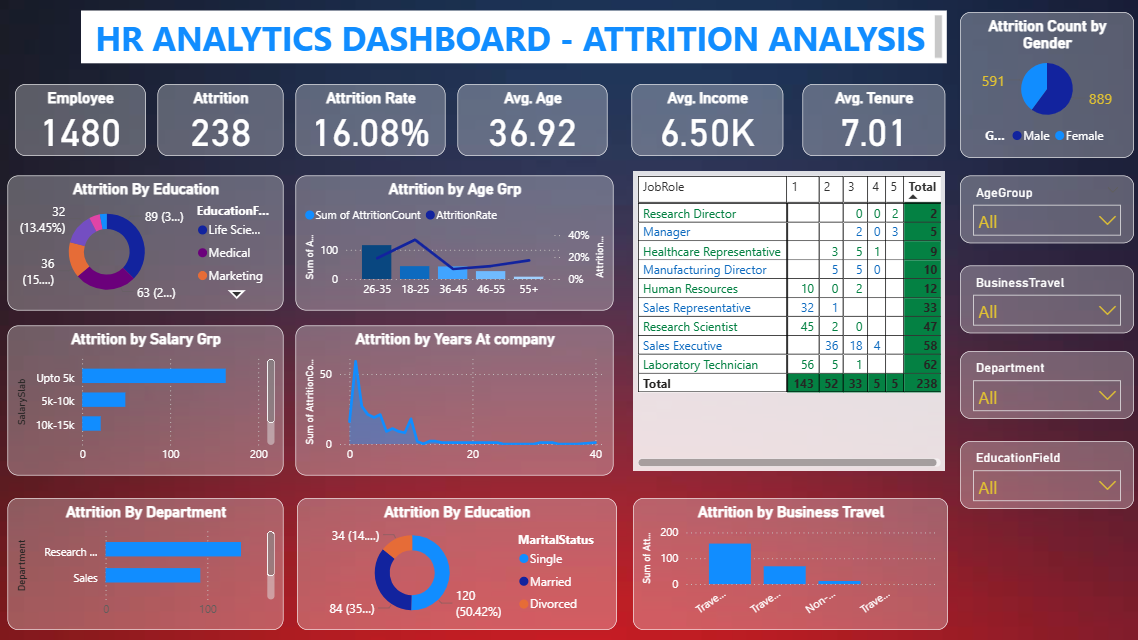

The page's visual inventory and layout, read from the dashboard file:
{"tool":"powerbi","page":{"name":"Page 1","canvas":[1280,720],"ordinal":0},"visuals":[{"type":"textbox","box":[96.7,43.3,961.7,58.3],"z":0},{"type":"card","title":"Employee","fields":{"Values":["CountNonNull(HR_Analytics.EmpID)"]},"box":[23.3,120,145,80],"z":1000},{"type":"card","title":"Attrition","fields":{"Values":["Sum(HR_Analytics.AttritionCount)"]},"box":[181.7,120,140,80],"z":2000},{"type":"card","title":"Attrition Rate","fields":{"Values":["HR_Analytics.AttritionRate"]},"box":[336.7,120,166.7,80],"z":3000},{"type":"card","title":"Avg. Age","fields":{"Values":["Avg(HR_Analytics.Age)"]},"box":[521.7,120,166.7,80],"z":4000},{"type":"card","title":"Avg. Income","fields":{"Values":["Avg(HR_Analytics.MonthlyIncome)"]},"box":[706.7,120,168.3,80],"z":5000},{"type":"card","title":"Avg. Tenure","fields":{"Values":["Avg(HR_Analytics.YearsAtCompany)"]},"box":[893.3,120,158.3,80],"z":6000},{"type":"pieChart","title":"Attrition Count by Gender","fields":{"Category":["HR_Analytics.Gender"],"Y":["CountNonNull(HR_Analytics.Attrition)"]},"box":[1073.3,43.3,193.3,161.7],"z":7000},{"type":"donutChart","title":"Attrition By Education","fields":{"Category":["HR_Analytics.EducationField","HR_Analytics.NumCompaniesWorked"],"Y":["Sum(HR_Analytics.AttritionCount)"]},"box":[15,218.3,306.7,150],"z":8000},{"type":"lineStackedColumnComboChart","title":"Attrition by Age Grp","fields":{"Category":["HR_Analytics.AgeGroup"],"Y":["Sum(HR_Analytics.AttritionCount)"],"Y2":["HR_Analytics.AttritionRate"]},"box":[335,218.3,353.3,150],"z":9000},{"type":"pivotTable","fields":{"Rows":["HR_Analytics.JobRole"],"Columns":["HR_Analytics.JobLevel"],"Values":["Sum(HR_Analytics.AttritionCount)"]},"box":[710,218.3,346.7,333.3],"z":10000},{"type":"barChart","title":"Attrition by Salary Grp","fields":{"Y":["Sum(HR_Analytics.AttritionCount)"],"Category":["HR_Analytics.SalarySlab"]},"box":[15,385,306.7,166.7],"z":11000},{"type":"areaChart","title":"Attrition by Years At company","fields":{"Category":["HR_Analytics.YearsAtCompany"],"Y":["Sum(HR_Analytics.AttritionCount)"]},"box":[335,385,353.3,166.7],"z":12000},{"type":"barChart","title":"Attrition By Department","fields":{"Y":["Sum(HR_Analytics.AttritionCount)"],"Category":["HR_Analytics.Department"]},"box":[15,568.3,306.7,146.7],"z":13000},{"type":"donutChart","title":"Attrition By Education","fields":{"Y":["Sum(HR_Analytics.AttritionCount)"],"Category":["HR_Analytics.MaritalStatus"]},"box":[336.7,568.3,355,146.7],"z":14000},{"type":"lineStackedColumnComboChart","title":"Attrition by Business Travel","fields":{"Y":["Sum(HR_Analytics.AttritionCount)"],"Category":["HR_Analytics.BusinessTravel"]},"box":[708.3,568.3,350,146.7],"z":15000},{"type":"slicer","fields":{"Values":["HR_Analytics.AgeGroup"]},"box":[1073.3,218.3,193.3,75],"z":16000},{"type":"slicer","fields":{"Values":["HR_Analytics.BusinessTravel"]},"box":[1073.3,310,193.3,75],"z":17000},{"type":"slicer","fields":{"Values":["HR_Analytics.Department"]},"box":[1073.3,405,193.3,75],"z":17001},{"type":"slicer","fields":{"Values":["HR_Analytics.EducationField"]},"box":[1073.3,493.3,193.3,75],"z":17002}]}

Visuals, with their boxes in screenshot pixels (x1, y1, x2, y2), scaled from the page's 1280x720 canvas onto the 1138x640 screenshot:
textbox: pyautogui.locateOnScreen(86, 38, 941, 90)
"Employee" card: pyautogui.locateOnScreen(21, 107, 150, 178)
"Attrition" card: pyautogui.locateOnScreen(162, 107, 286, 178)
"Attrition Rate" card: pyautogui.locateOnScreen(299, 107, 448, 178)
"Avg. Age" card: pyautogui.locateOnScreen(464, 107, 612, 178)
"Avg. Income" card: pyautogui.locateOnScreen(628, 107, 778, 178)
"Avg. Tenure" card: pyautogui.locateOnScreen(794, 107, 935, 178)
"Attrition Count by Gender" pieChart: pyautogui.locateOnScreen(954, 38, 1126, 182)
"Attrition By Education" donutChart: pyautogui.locateOnScreen(13, 194, 286, 327)
"Attrition by Age Grp" lineStackedColumnComboChart: pyautogui.locateOnScreen(298, 194, 612, 327)
pivotTable - HR_Analytics.JobRole x HR_Analytics.JobLevel: pyautogui.locateOnScreen(631, 194, 939, 490)
"Attrition by Salary Grp" barChart: pyautogui.locateOnScreen(13, 342, 286, 490)
"Attrition by Years At company" areaChart: pyautogui.locateOnScreen(298, 342, 612, 490)
"Attrition By Department" barChart: pyautogui.locateOnScreen(13, 505, 286, 636)
"Attrition By Education" donutChart: pyautogui.locateOnScreen(299, 505, 615, 636)
"Attrition by Business Travel" lineStackedColumnComboChart: pyautogui.locateOnScreen(630, 505, 941, 636)
slicer - HR_Analytics.AgeGroup: pyautogui.locateOnScreen(954, 194, 1126, 261)
slicer - HR_Analytics.BusinessTravel: pyautogui.locateOnScreen(954, 276, 1126, 342)
slicer - HR_Analytics.Department: pyautogui.locateOnScreen(954, 360, 1126, 427)
slicer - HR_Analytics.EducationField: pyautogui.locateOnScreen(954, 438, 1126, 505)
